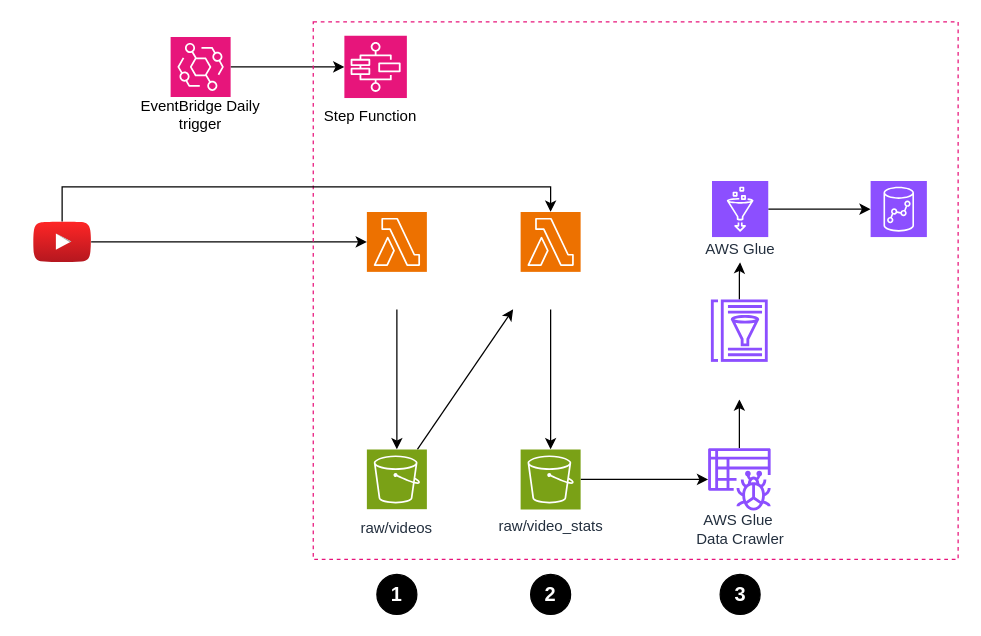
Some shapes in this 981 by 636 pixel diagram are drawn without their labels. The shapes that lost their labels are listed below. From the top down, each one's centre as x and y in pixels, then its label:
At [61,241]: "Youtube API".
At [898,249]: "Redshift".
At [396,290]: "get_youtube_data".
At [550,290]: "get_youtube_stats".
At [738,380]: "AWS Glue Data Catalog".
